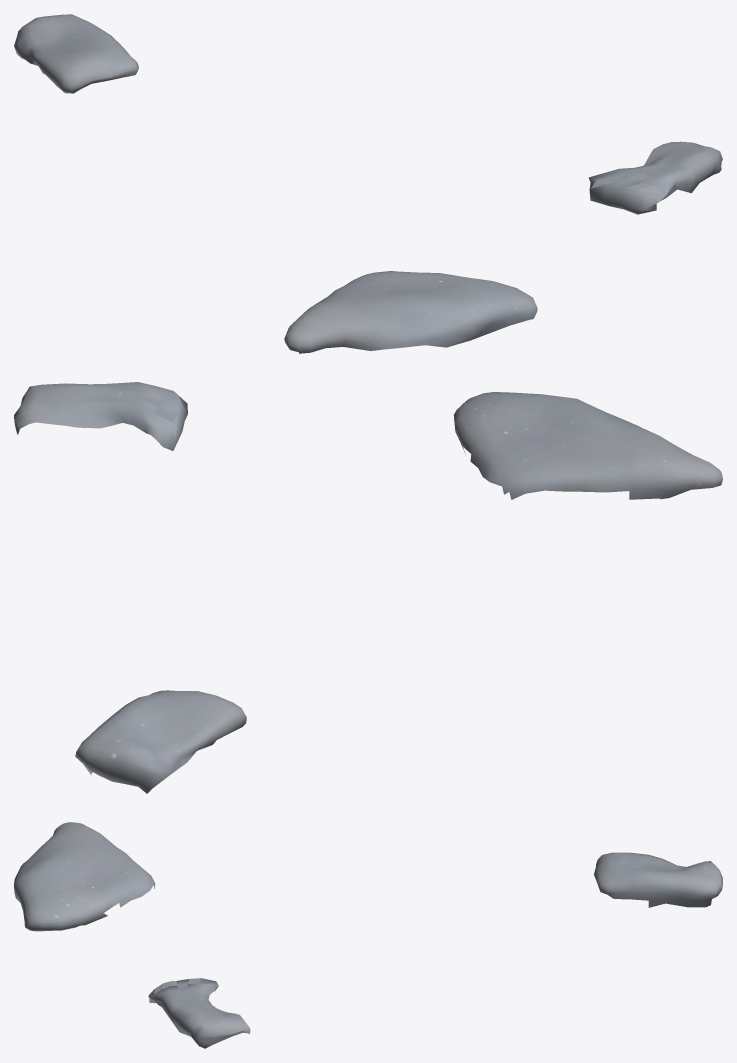
Rendered from pref_sm_beach_winter_grass_snow02_mirror_lv3.fbx.
3 views of the same model, one above another, from view 1: azimuth 30°, elevation 25°; view 2: azimuth 150°, elevation 25°; view 3: azimuth 270°, elevation 25° (orthographic). The views are drawn at different scales.
Visible parts, largest first — view 1: pref_sm_beach_winter_grass_snow02_mirror_lv3; view 2: pref_sm_beach_winter_grass_snow02_mirror_lv3; view 3: pref_sm_beach_winter_grass_snow02_mirror_lv3.
Part boxes in pixels (x1,y1,x2,y2): pref_sm_beach_winter_grass_snow02_mirror_lv3: (14, 14, 722, 353); pref_sm_beach_winter_grass_snow02_mirror_lv3: (14, 382, 722, 793); pref_sm_beach_winter_grass_snow02_mirror_lv3: (14, 822, 722, 1048).
Bounding box in the file's own units: 15.18 × 1.15 × 21.32.
